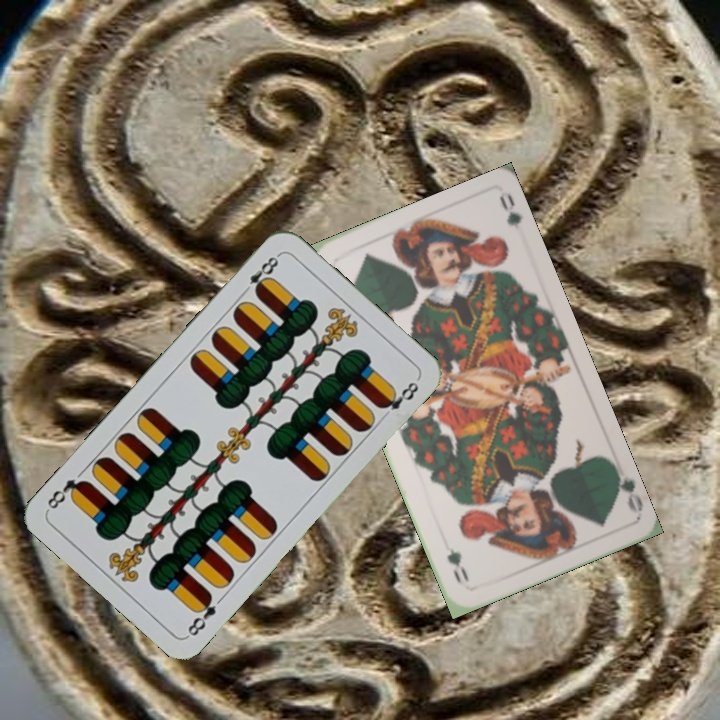E8: (237, 250, 282, 298), (183, 589, 219, 640)
GO: (610, 460, 645, 516)
